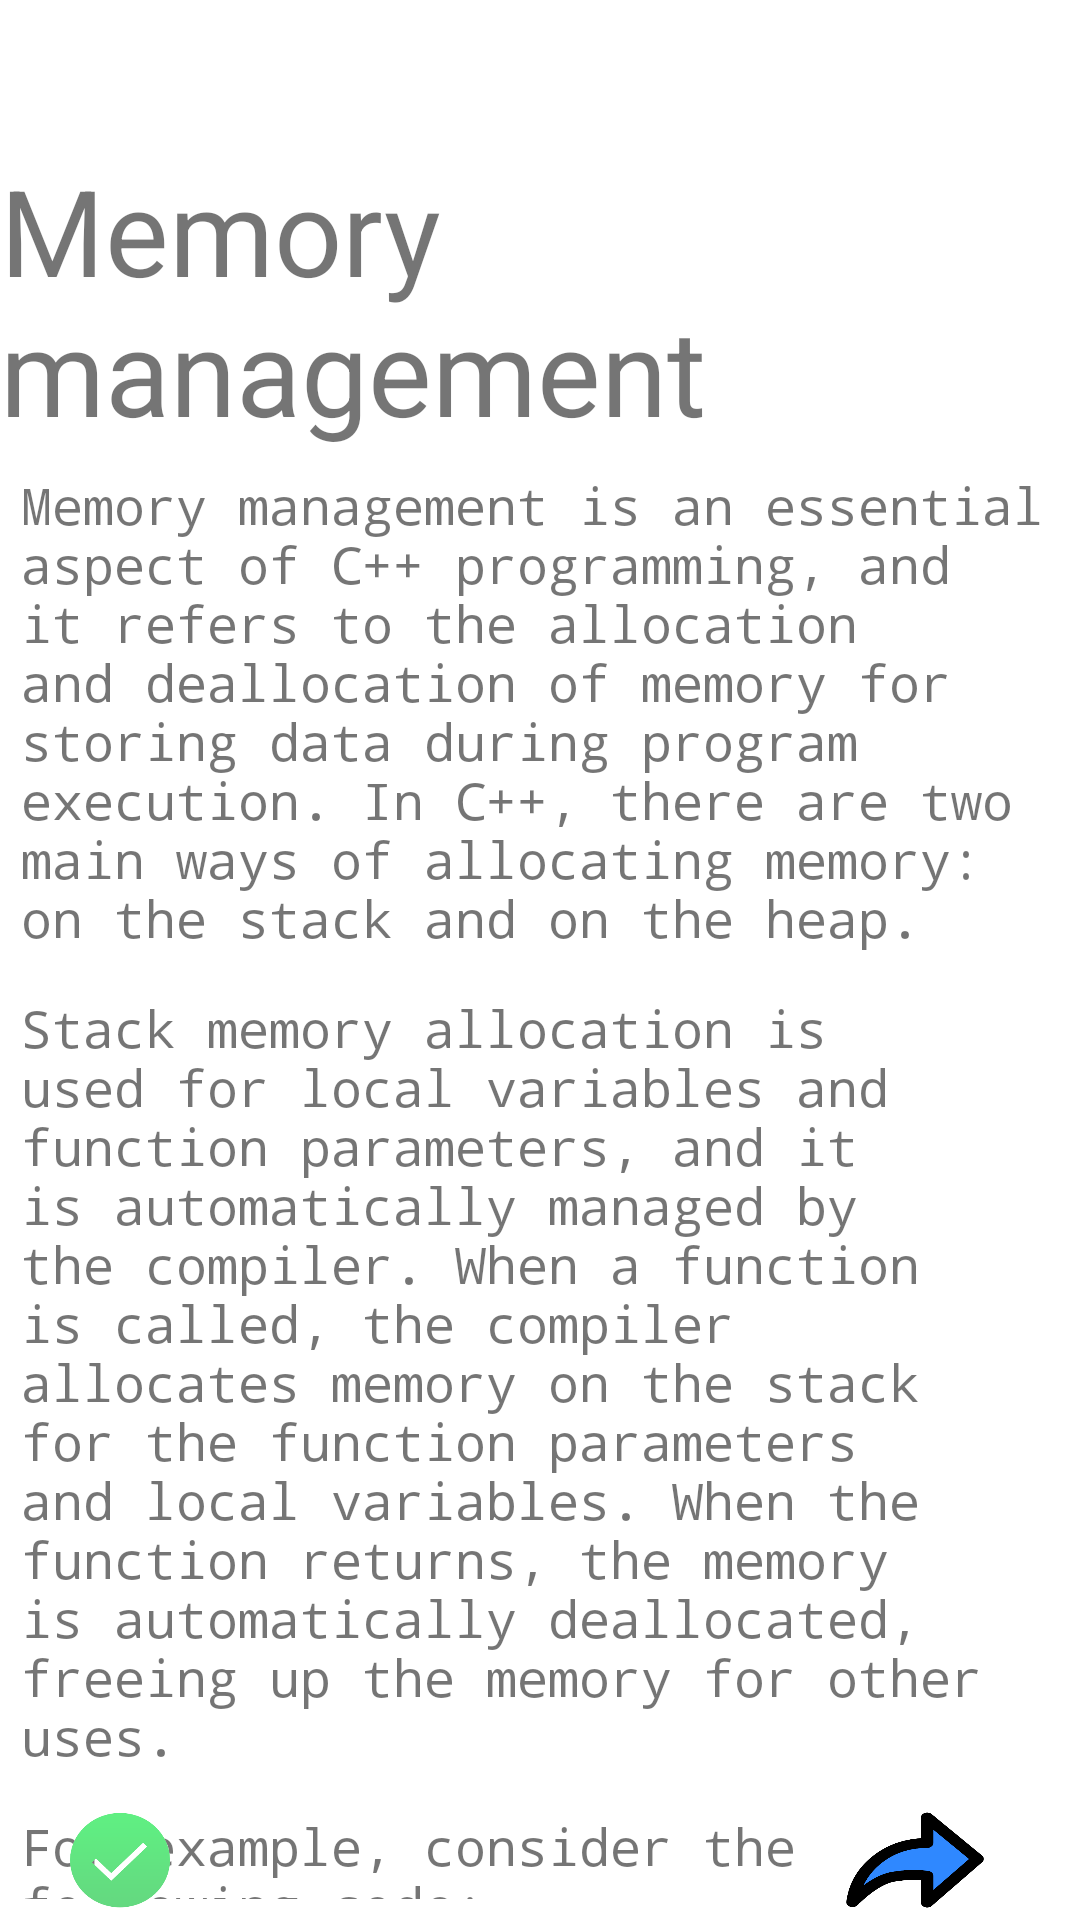

Screen size 1080px x 1920px. Icon name, then its box in pixels as region(x1, y1, x2, y2):
next: region(846, 1812, 984, 1908)
